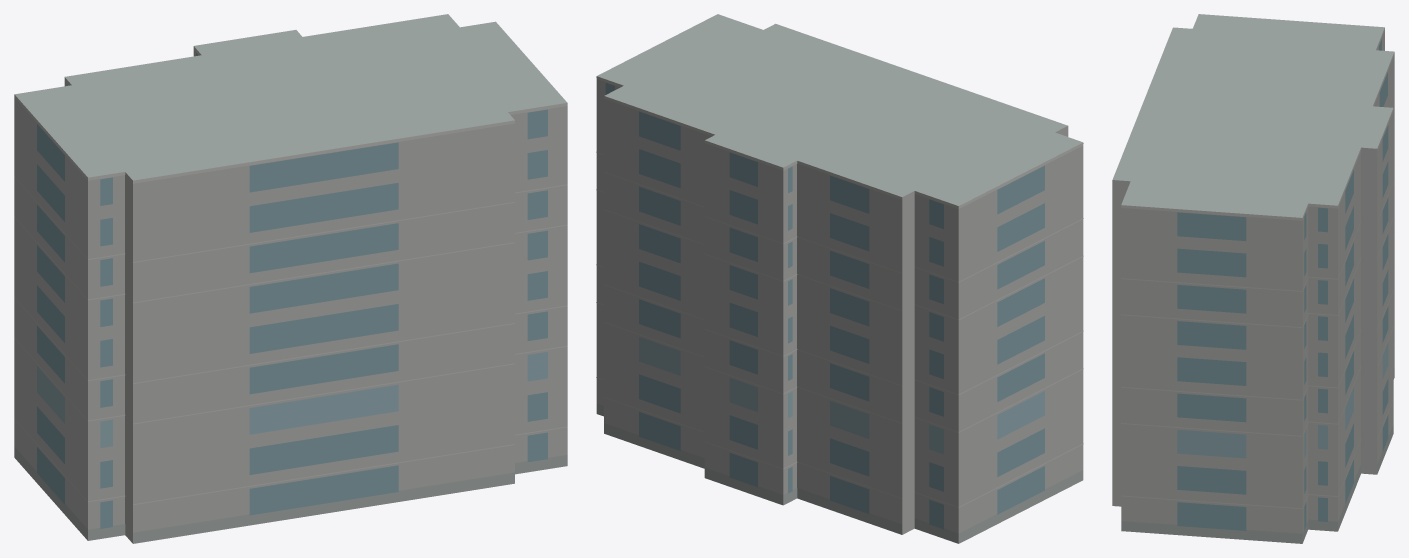
File: residential-af0b5ab6-6c3c-45af-8e44-736dfd297a99.glb
The picture shows the model from 3 angles, left to right: view 1: azimuth 30°, elevation 25°; view 2: azimuth 150°, elevation 25°; view 3: azimuth 270°, elevation 25°; orthographic projection. The views are drawn at different scales.
Visible parts, largest first — view 1: residential-af0b5ab6-6c3c-45af-8e44-736dfd297a99.tmp; view 2: residential-af0b5ab6-6c3c-45af-8e44-736dfd297a99.tmp; view 3: residential-af0b5ab6-6c3c-45af-8e44-736dfd297a99.tmp.
Boxes of the visible parts, bbox=[...] form: residential-af0b5ab6-6c3c-45af-8e44-736dfd297a99.tmp: bbox=[14, 14, 567, 543]; residential-af0b5ab6-6c3c-45af-8e44-736dfd297a99.tmp: bbox=[596, 14, 1083, 543]; residential-af0b5ab6-6c3c-45af-8e44-736dfd297a99.tmp: bbox=[1112, 14, 1394, 543].
Size of the model in its own units: 36.85 by 27.45 by 21.56.
